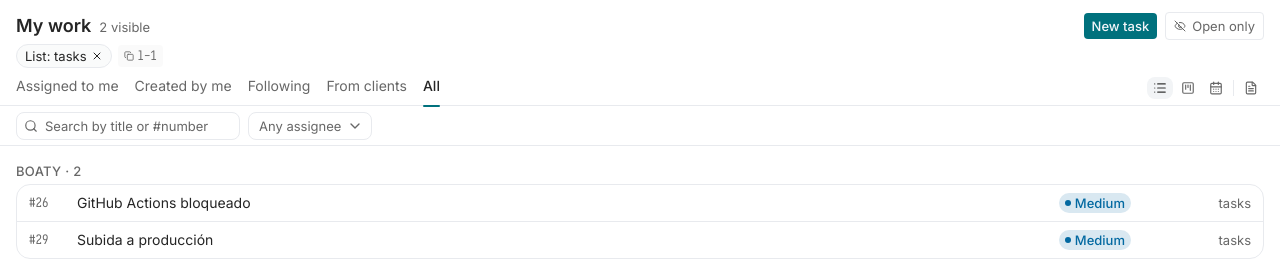
Test: buscar en Mi trabajo › filtra lo que se ve, dentro de la lista acotada
Check: the text "GitHub Actions bloqueado" is shown, box [77,194,251,211]
In the search field: [128, 126] box [16,112,240,140], type "#29"
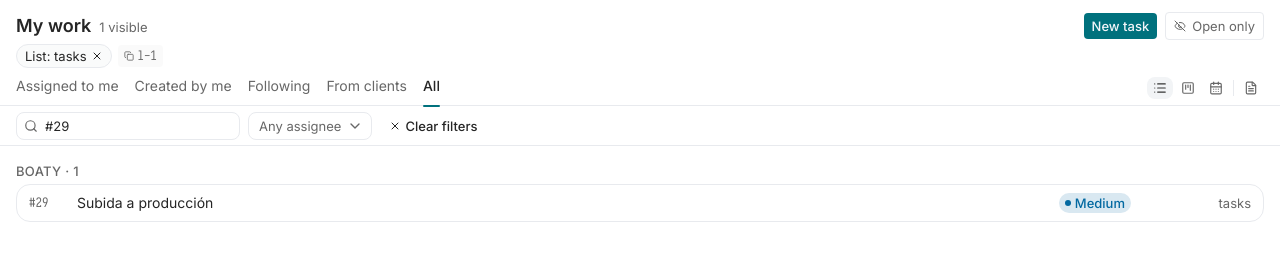
Check: the text "Subida a producción" is shown, box [77,194,213,211]
Check: the button "GitHub Actions bloqueado" is gone
